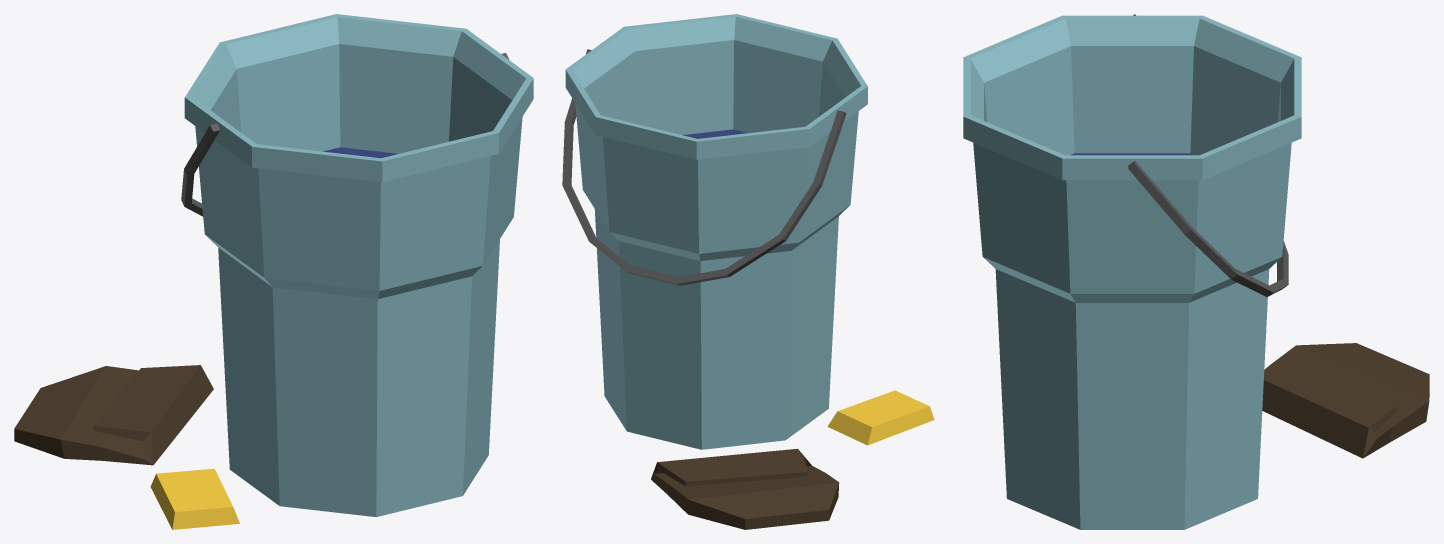
File: Bucket.glb
3 renders of one model, left to right at view 1: azimuth 30°, elevation 25°; view 2: azimuth 150°, elevation 25°; view 3: azimuth 270°, elevation 25°, orthographic. The views are drawn at different scales.
Parts seen in each view (by area): view 1: Bucket; view 2: Bucket; view 3: Bucket.
Boxes of the visible parts, box(x1,y1,x2,y2) form: Bucket: box(14, 14, 533, 529); Bucket: box(562, 14, 934, 529); Bucket: box(963, 14, 1429, 529).
Bounding box in the file's own units: 0.6843 × 0.6359 × 0.6891.
1 material, 1 textured.
